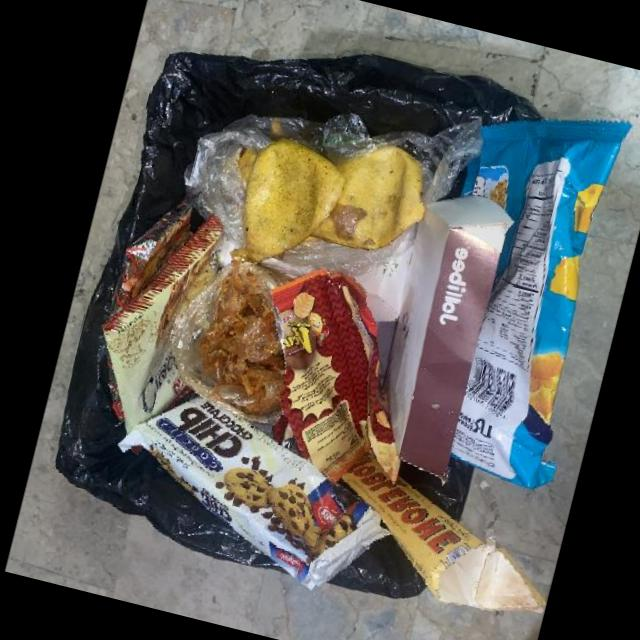bao_bi_thuc_pham: (450, 120, 630, 491), (117, 397, 391, 588), (270, 268, 400, 484), (102, 214, 223, 434), (110, 189, 200, 316)
carton: (389, 195, 512, 484), (342, 451, 546, 613), (354, 245, 413, 322)
thuc_an_thua: (198, 258, 285, 417)
vo_trai_cay: (237, 138, 425, 263)
